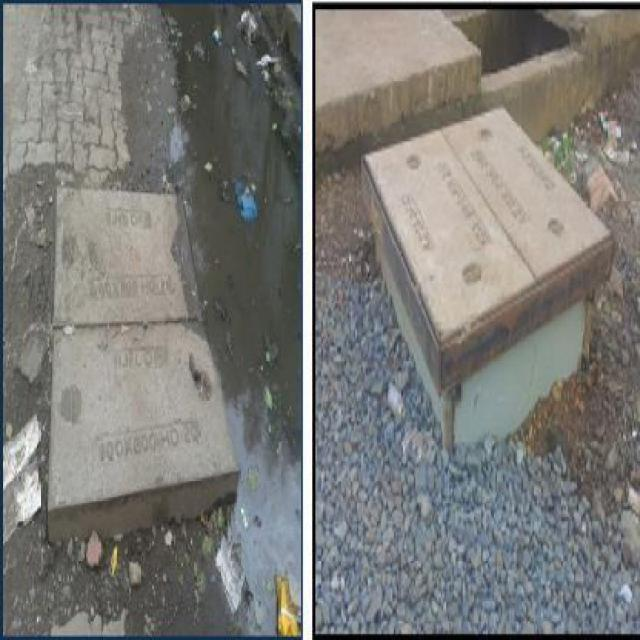Manhole: (362, 94, 620, 355), (48, 327, 236, 517), (53, 185, 203, 324)
Open Manhole: (450, 6, 580, 76)
